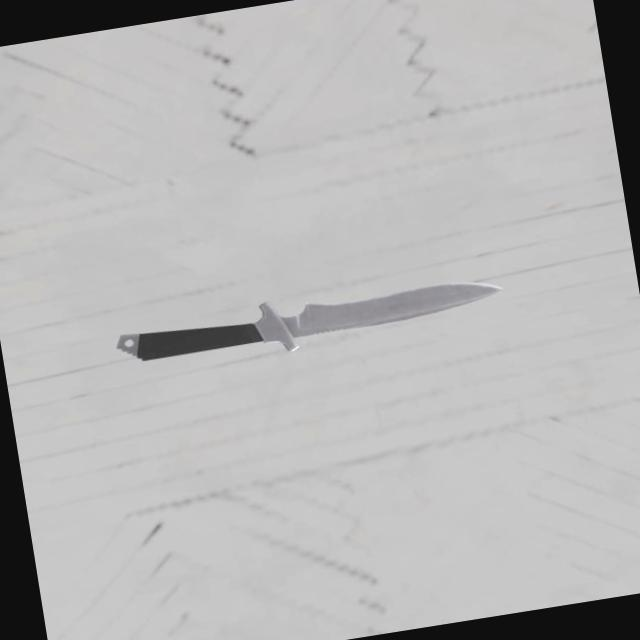knife: (124, 314, 265, 363)
